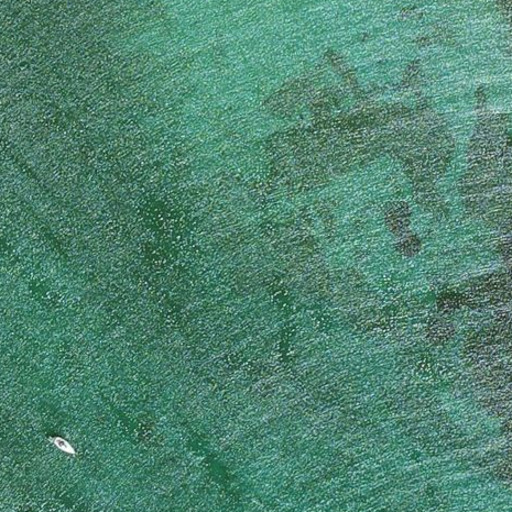ship: (46, 431, 78, 457)
